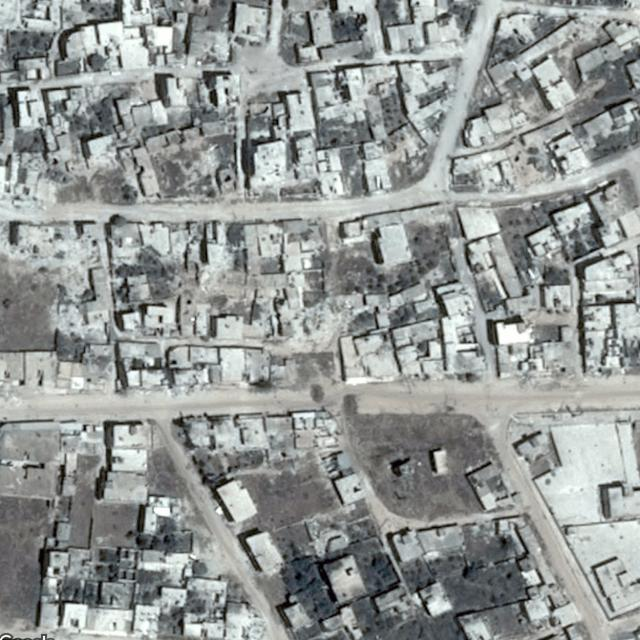damaged_building: (278, 293, 369, 352), (28, 237, 101, 297)
